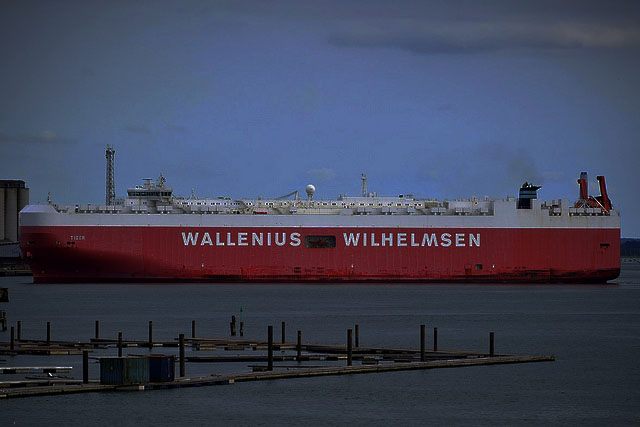PCC: (15, 175, 623, 288)
